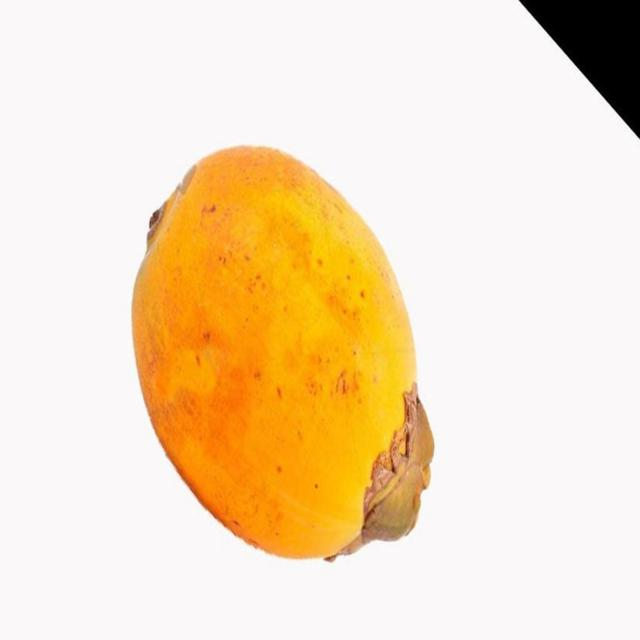good: (129, 147, 436, 564)
